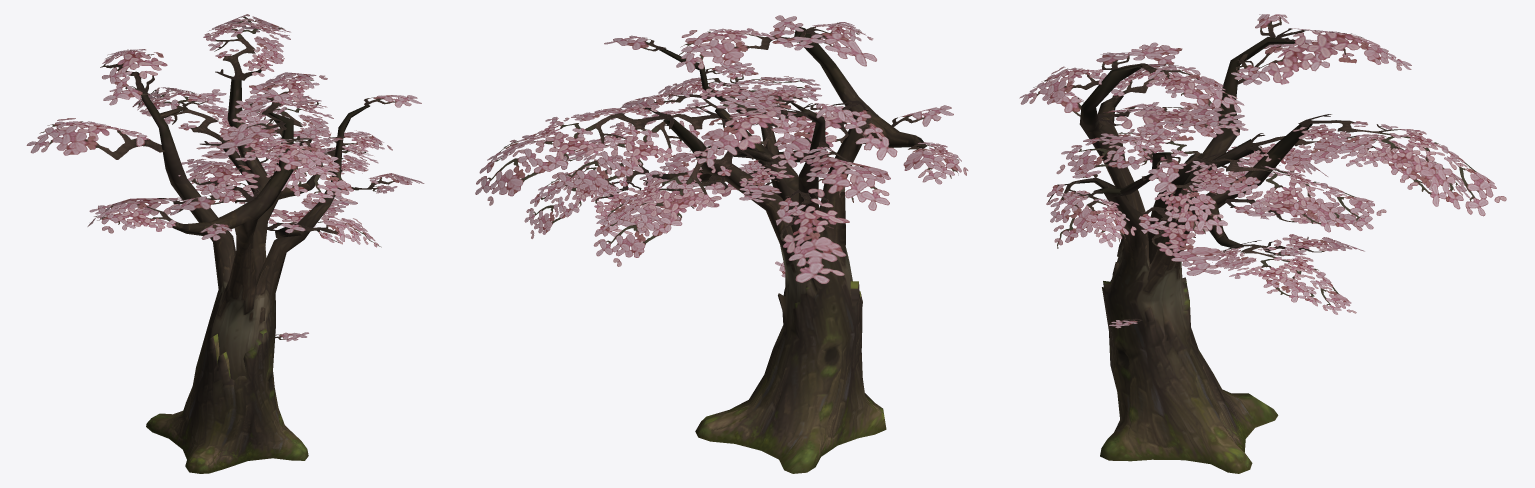
The model's file is school_plant005_01.FBX.
The picture shows the model from 3 angles, left to right: view 1: azimuth 30°, elevation 25°; view 2: azimuth 150°, elevation 25°; view 3: azimuth 270°, elevation 25°; orthographic projection. The views are drawn at different scales.
Parts seen in each view (by area): view 1: school_plant005_01; view 2: school_plant005_01; view 3: school_plant005_01.
Part boxes in pixels (box(x1,y1,x2,y2)): school_plant005_01: box(26, 14, 424, 473); school_plant005_01: box(475, 15, 968, 473); school_plant005_01: box(1019, 14, 1506, 473).
Size of the model in its own units: 454 by 441 by 516.
